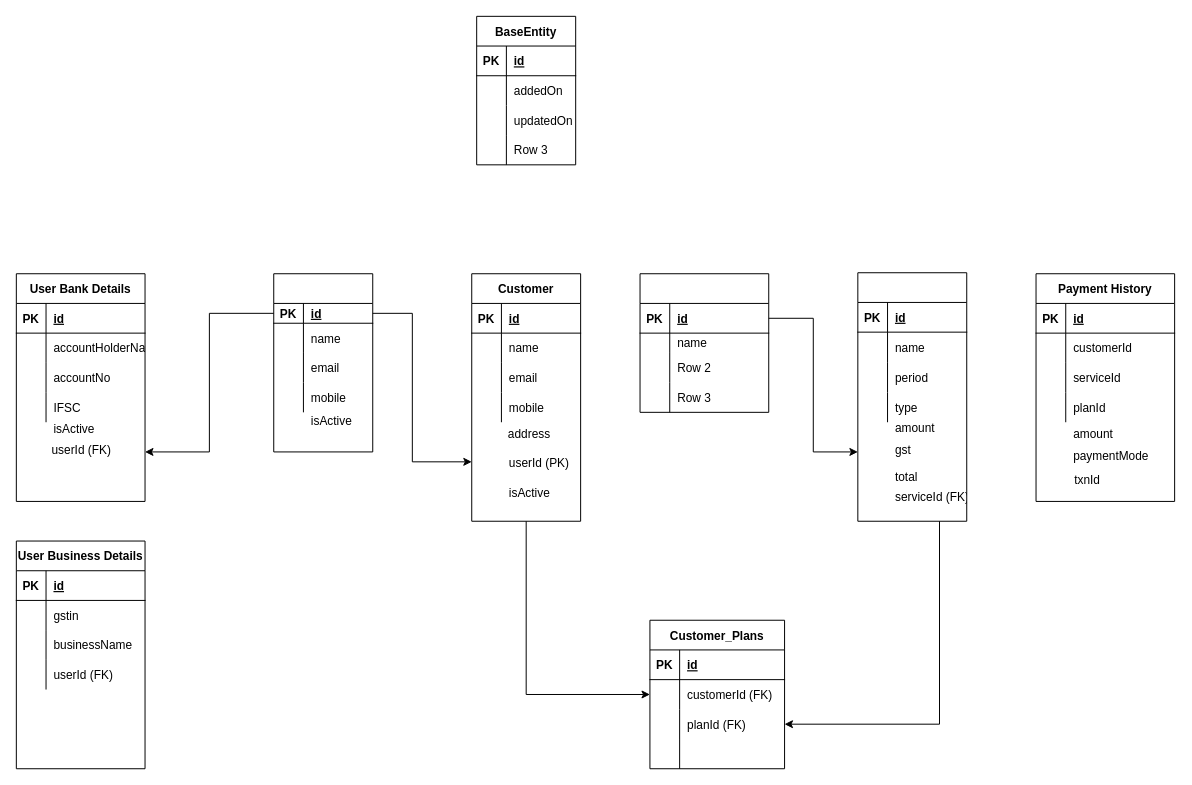
This 1192x785 diagram has some shape labels left out. Here are the shapes that lost their labels. From the top down, the box of each, then its label:
(273, 273, 373, 452): User
(639, 273, 769, 412): Services
(857, 272, 967, 521): Plans
